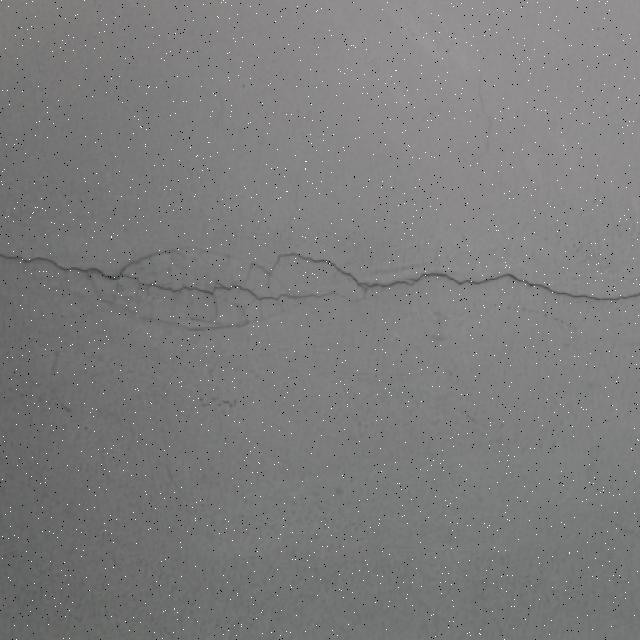minor crack: (2, 237, 638, 640), (14, 249, 241, 294), (437, 266, 637, 300)
severe crack: (276, 250, 426, 291)
